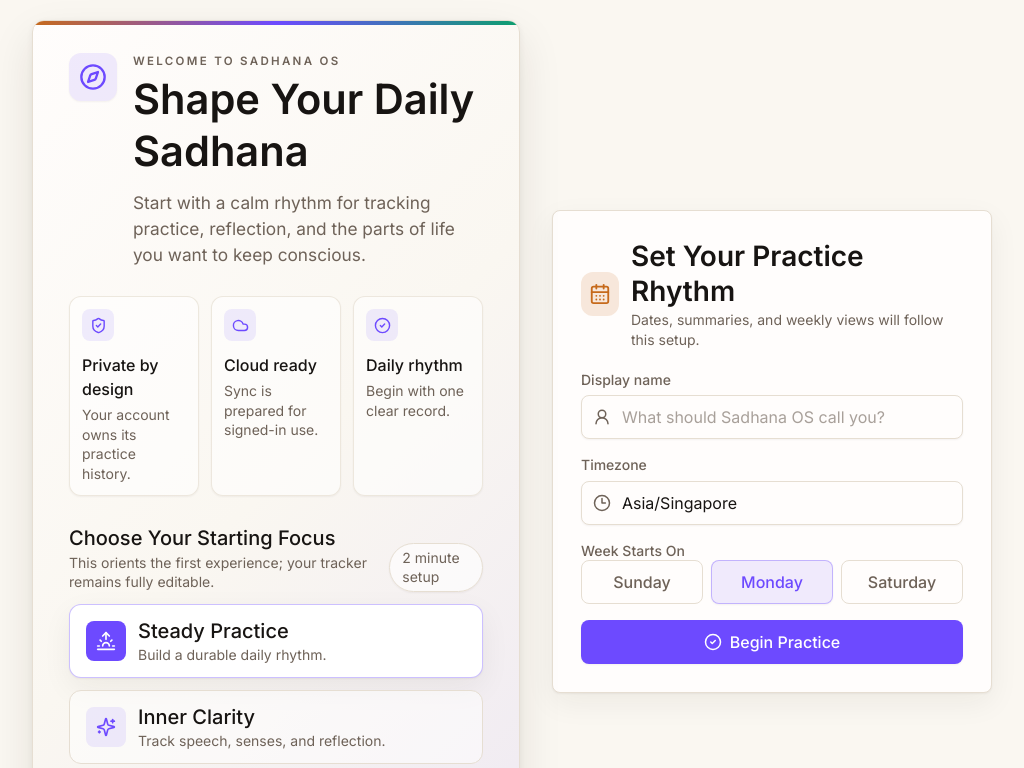
Test: OnboardingScreen › shows a friendly error when onboarding cannot be saved
Step 1. Click the button "Begin Practice" → {"x": 772, "y": 642}, box [581,620,963,664]
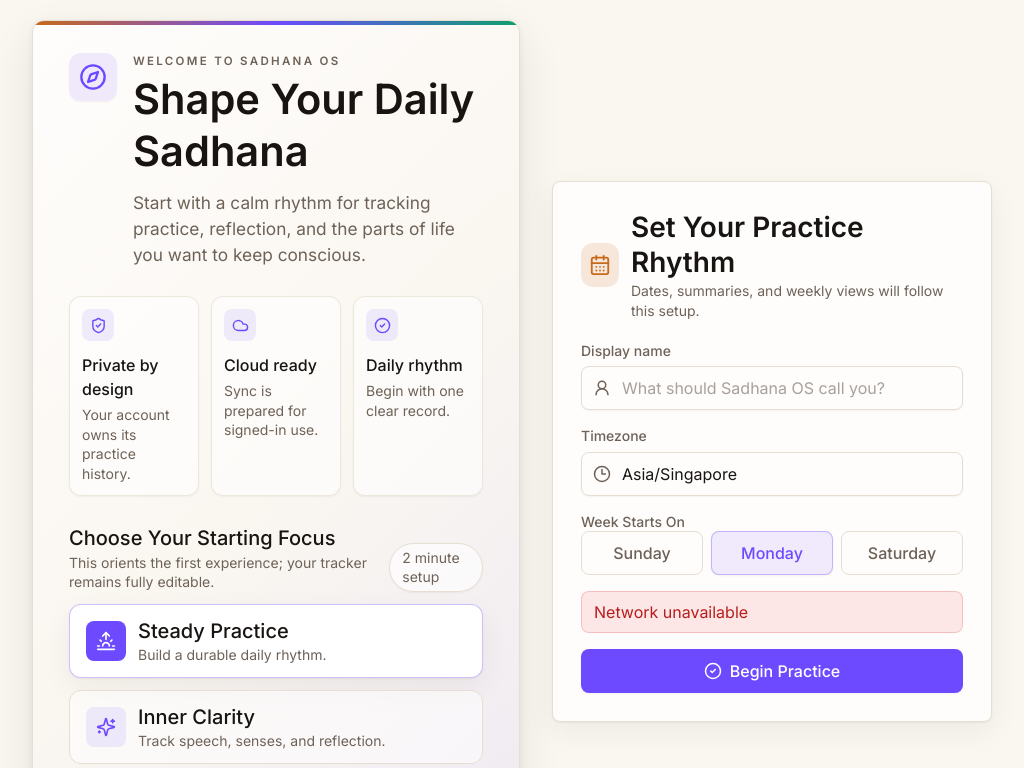
expect the message reads "Network unavailable": met, box [594,602,748,622]
